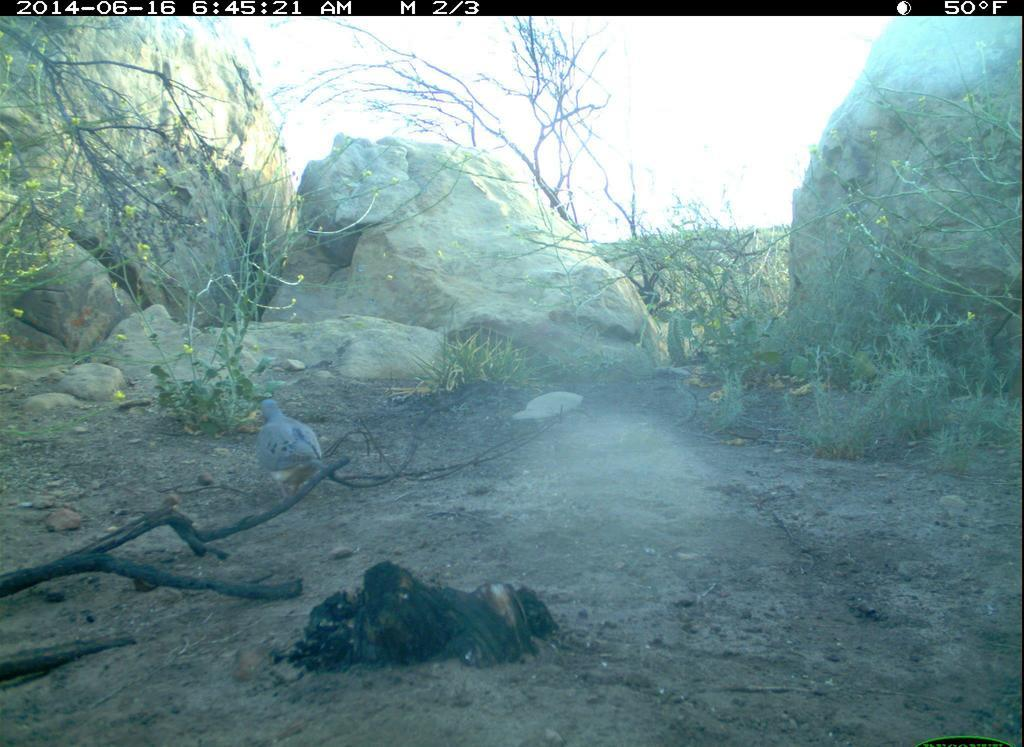bird: (255, 391, 338, 511)
